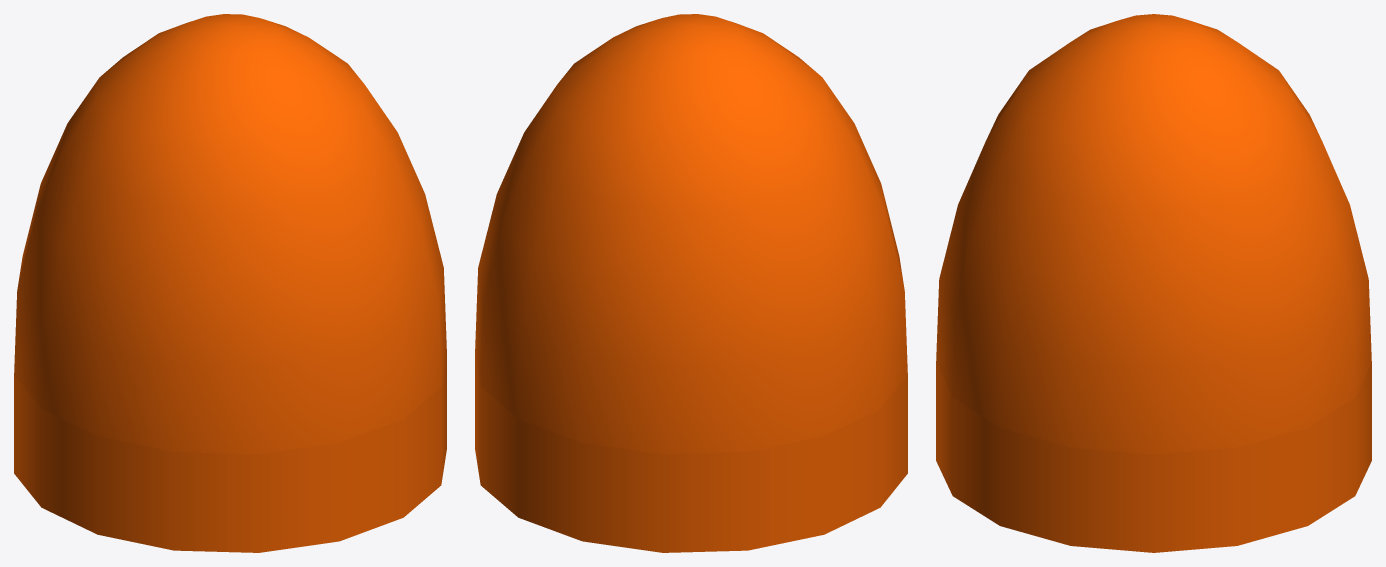
File: 45ACP.fbx
3 renders of one model, left to right at view 1: azimuth 30°, elevation 25°; view 2: azimuth 150°, elevation 25°; view 3: azimuth 270°, elevation 25°, orthographic.
Visible parts, largest first — view 1: 45acp; view 2: 45acp; view 3: 45acp.
Boxes of the visible parts, x1,y1,x2,y2 form: 45acp: (14,14,446,552); 45acp: (475,14,907,552); 45acp: (936,14,1371,552).
Size of the model in its own units: 17.23 by 18.98 by 17.23.
